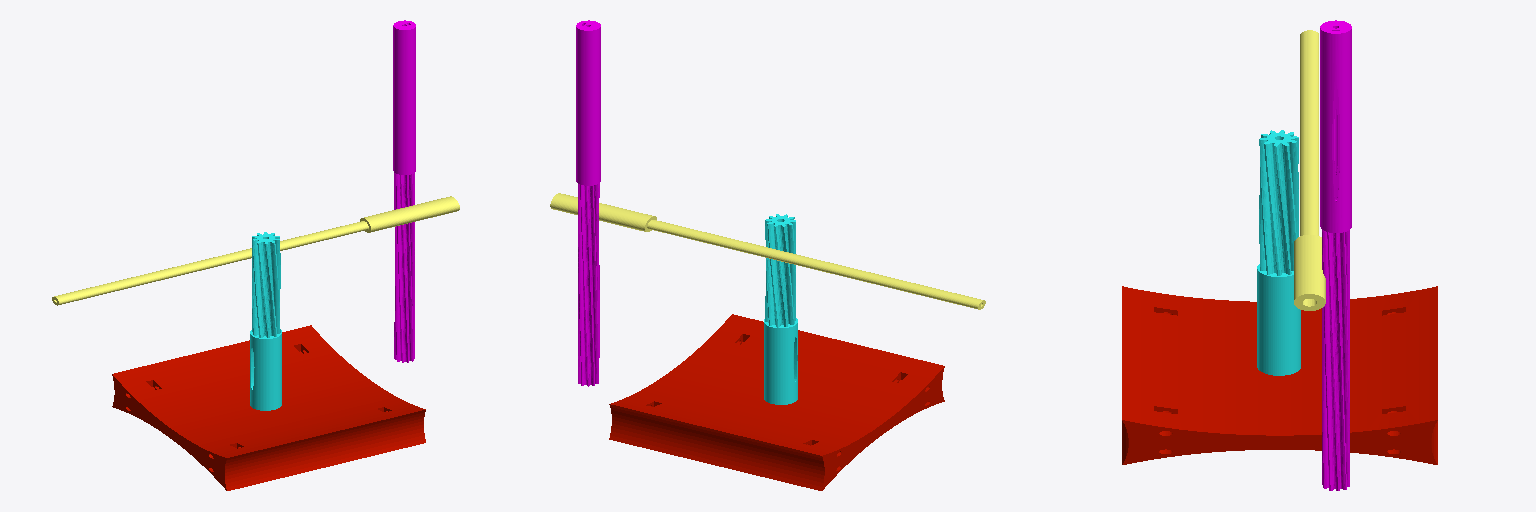
robot.urdf — proje:
<?xml version="1.0"?>
<robot name="proje">
  
  <material name="renk1">
    <color rgba="1 0 1 0.5" />
  </material>
 
 <material name="renk2">
    <color rgba="0.2 1 1 0.8" />
  </material>
  
<material name="renk3">
    <color rgba="1 1 0.5 0.8" />
  </material>

<material name="renk4">
    <color rgba="0.8 0.1 0 0.5" />
  </material>

  <link name="base_link" />
  <link name="link1">
   
 <visual>
      <geometry>
     <mesh filename="taban.stl"/>
      </geometry>
      <origin xyz="0 0 -3" />
      <material name="renk4" />
    </visual>
  
       <collision>
         <geometry>
   <box size="5 5 0.8" /> 
         </geometry>
       </collision>

  </link>

  <link name="link2">
    <visual>
      <geometry>
      <mesh filename="govde.stl"/>
      </geometry>
      <origin xyz="0 0 -0.7" />
      <material name="renk2" />
    </visual>
  <collision>
         <geometry>
      <box size="0.7 0.7 4" /> 
         </geometry>
       </collision>

  </link>


  <link name="link3">
    <visual>
      <geometry>
         <mesh filename="çubuk.stl"/>
      </geometry>
      <origin xyz="0.8 -0.5 0" />
      <material name="renk3" />
    </visual>

      <collision>
         <geometry>
             <box size="0.5 0.3 10" />
         </geometry>
       </collision>

  </link>

 <link name="link4">
    <visual>
      <geometry>
    <mesh filename="son.stl"/>  
      </geometry>
      <origin xyz="-4 -0.1 0" />
      <material name="renk1" />
    </visual>

      <collision>
         <geometry>
              <box size="0.5 0.5 8" />
         </geometry>
       </collision>

  </link>



  <joint name="q1" type="fixed">
    <parent link="base_link" />
    <child link="link1" />
    <axis xyz="0 0 1" />
  </joint>
  
  <joint name="q2" type="revolute">
    <parent link="link1" />
    <child link="link2" />
<limit effort="1000" velocity="1.0" lower="-1000" upper="1000" />
    <axis xyz="0 0 1" />
  </joint>
  
  <joint name="q3" type="revolute">
    <parent link="link2" />
    <child link="link3" />
<limit effort="1000" velocity="1.0" lower="-1000" upper="1000" />
    <origin xyz="0 1 0" rpy="0 -1.5708 0"/>
    <axis xyz="0 1 0" />
  </joint>

  <joint name="q4" type="prismatic">
    <parent link="link3" />
    <child link="link4" />
<limit effort="1000" velocity="1.0" lower="-4" upper="4" />
    <origin xyz="1 0 0" rpy="0 -1.5708 0"/>
    <axis xyz="0 0 1" />
  </joint>


</robot>

--- Render facts (derived) ---
Views: 3 orthographic renders of the robot side by side, from view 1: azimuth 30°, elevation 25°; view 2: azimuth 150°, elevation 25°; view 3: azimuth 270°, elevation 25°.
Robot: proje — 5 links, 4 joints (2 revolute, 1 prismatic, 1 fixed); root link base_link; default pose: all joints at 0.
Links seen in each view (by area): view 1: link1, link4, link2, link3; view 2: link1, link4, link2, link3; view 3: link1, link4, link2, link3.
Boxes of the visible links, x1,y1,x2,y2 form: link1: (112,325,425,490); link4: (393,20,415,362); link2: (250,232,281,410); link3: (52,196,459,305); link1: (609,314,944,490); link4: (576,20,600,386); link2: (764,214,797,404); link3: (550,193,985,309); link1: (1122,286,1437,464); link4: (1320,20,1351,490); link2: (1257,130,1300,375); link3: (1294,30,1325,310).
Bounding box of the posed robot: 10 × 5 × 8.31 m (x, y, z).
Meshes: 4 distinct files referenced, 4 mesh visuals loaded (4 binary STL).
